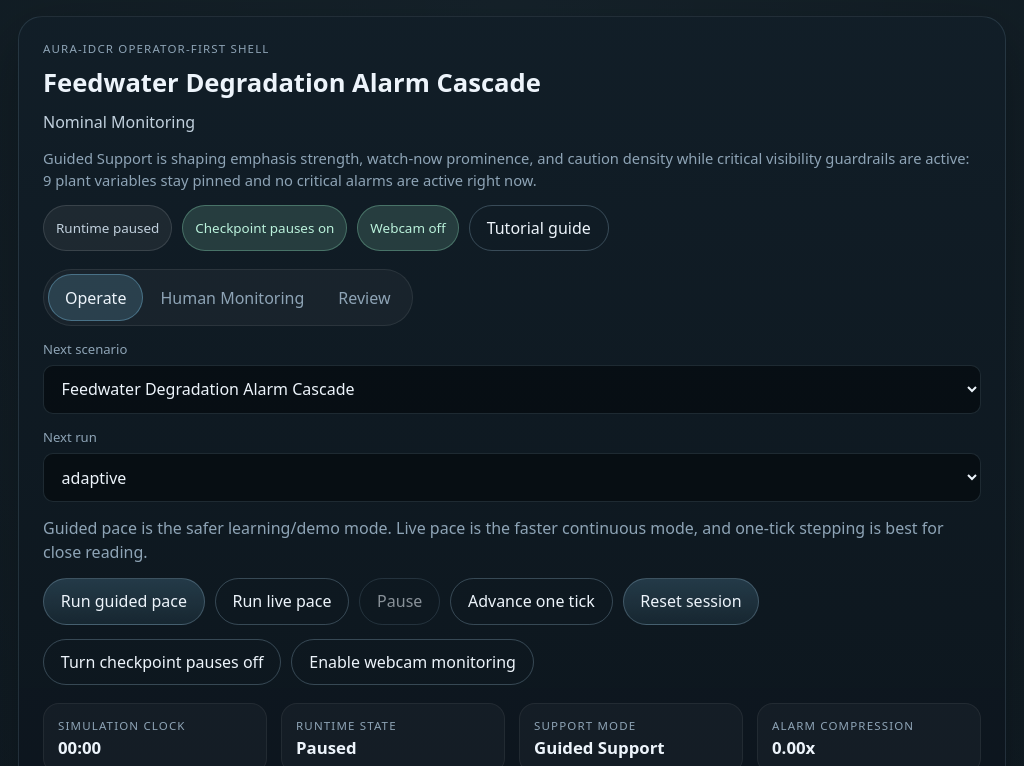
AuraSessionStore › renders an isolated human monitoring workspace with the Phase 1 inspection sections
Click the tab "Human Monitoring".
click(232, 298)  # box x1=143 y1=274 x2=321 y2=321
(page scrolled)
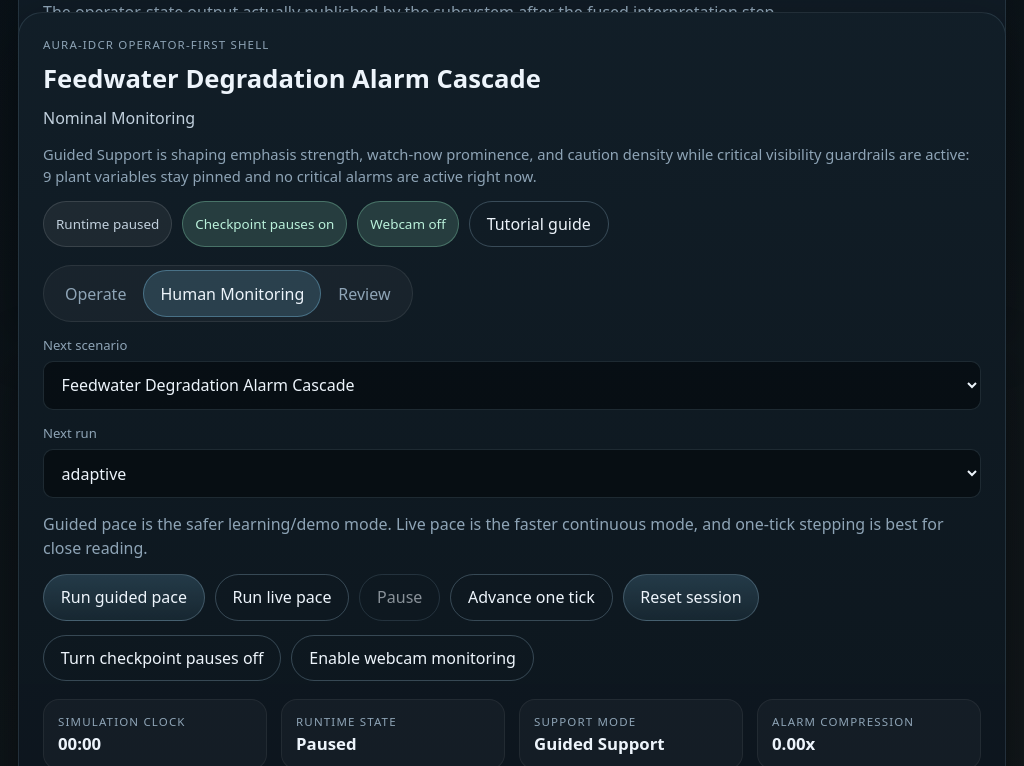
Expected: the heading "Advisory Meaning / System Impact" is shown, x1=43 y1=369 x2=382 y2=396
